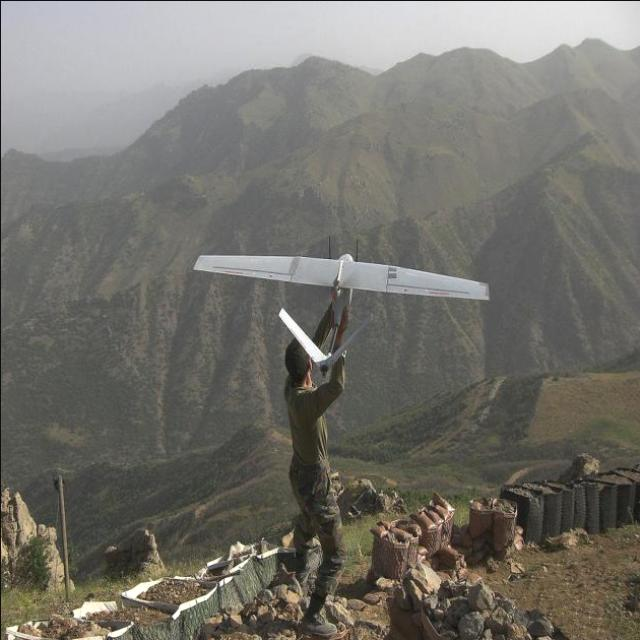plane: (192, 236, 490, 375)
